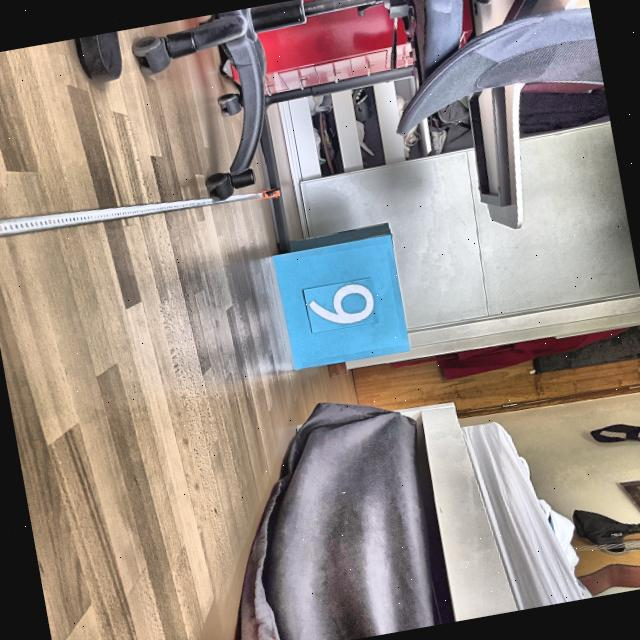blue box: (270, 220, 412, 372)
nine: (303, 277, 379, 331)
